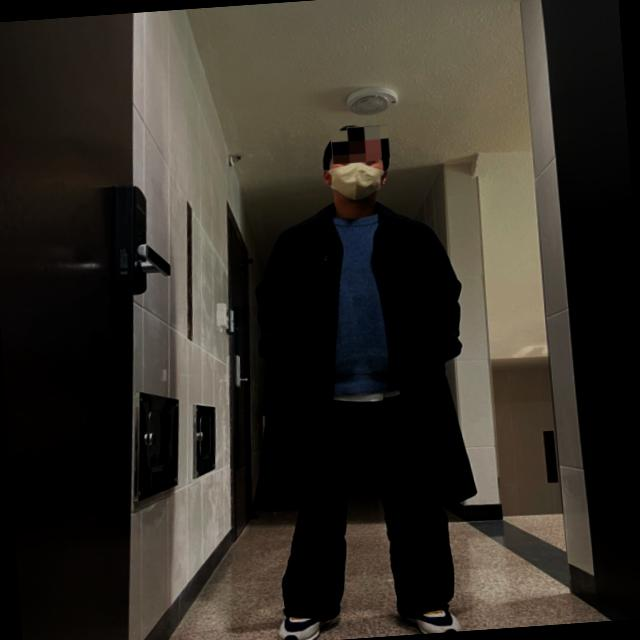coat: (232, 186, 479, 528)
denimpants: (267, 402, 453, 628)
sweater: (312, 209, 401, 400)
